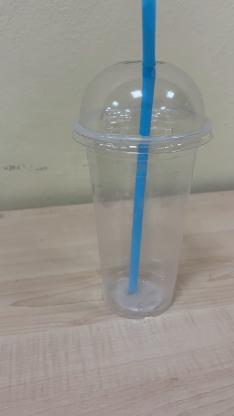Plastic Cup: (70, 58, 216, 320)
